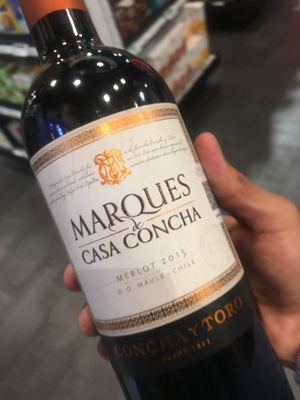marques de casa concha merlot: (27, 20, 255, 400)
